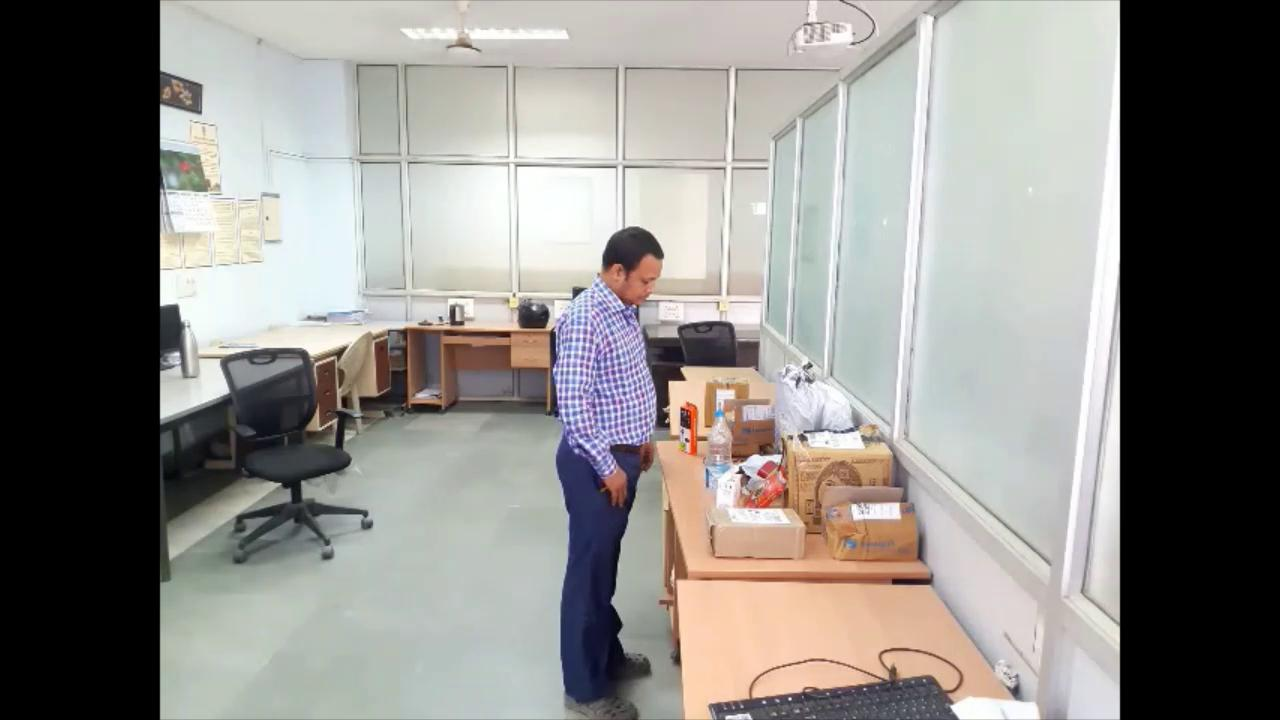shoplifting: (524, 202, 670, 720)
